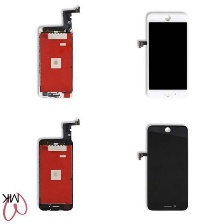phone: (144, 10, 190, 102), (145, 122, 190, 214), (34, 134, 77, 212), (35, 22, 75, 101)
